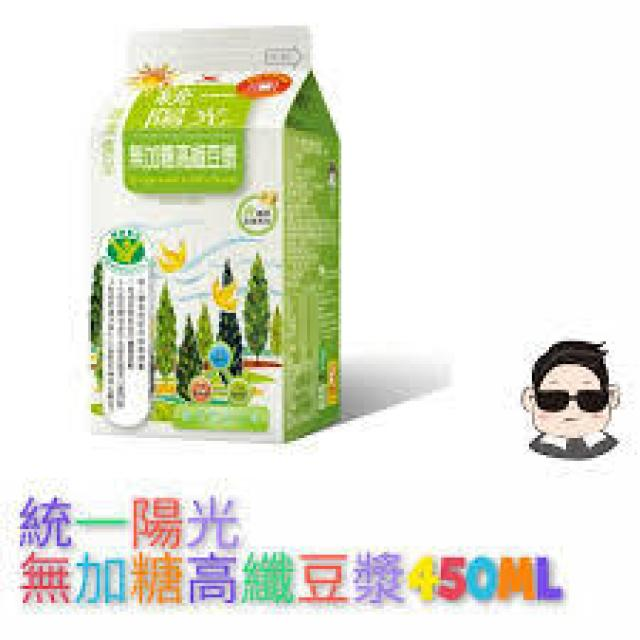TongYi_UnsweetenedHighFiberSoyMilk: (84, 21, 347, 446)
